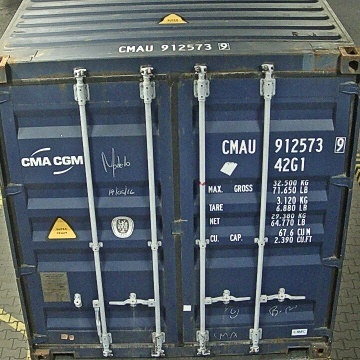serial_id: (222, 137, 345, 153)
